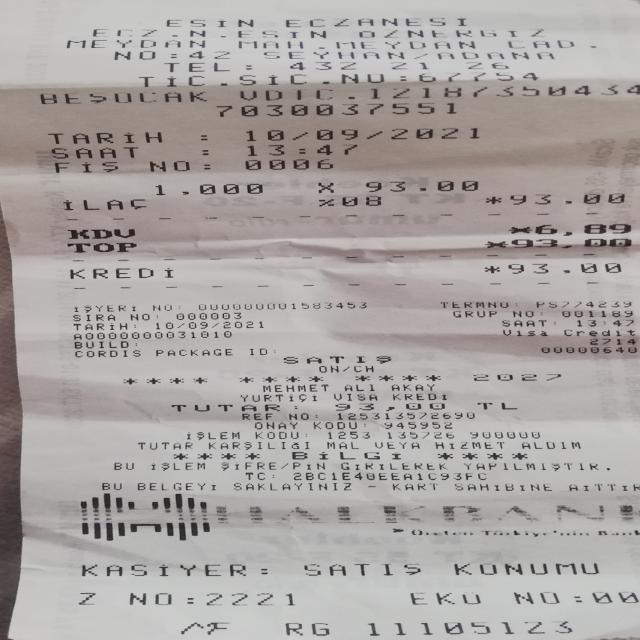text: (364, 84, 638, 98), (367, 620, 571, 635), (245, 128, 480, 141), (239, 38, 474, 50), (214, 105, 456, 116), (81, 562, 245, 578), (453, 560, 599, 576), (93, 28, 325, 38), (284, 16, 465, 28), (39, 91, 206, 103), (304, 560, 421, 576), (358, 28, 542, 38), (292, 472, 486, 481), (261, 50, 404, 62), (66, 38, 204, 50), (508, 191, 625, 205), (47, 131, 162, 145), (466, 460, 598, 472), (205, 589, 293, 607), (246, 142, 358, 156), (510, 236, 630, 249), (414, 70, 542, 82), (507, 262, 623, 275), (154, 182, 263, 195), (195, 301, 371, 309), (364, 180, 478, 192), (49, 144, 140, 159), (234, 481, 349, 492), (336, 411, 474, 420), (454, 481, 551, 493), (289, 450, 402, 460), (57, 199, 151, 211), (70, 267, 172, 278), (334, 400, 444, 410), (208, 440, 308, 451), (174, 402, 282, 412), (437, 51, 556, 60), (536, 223, 632, 234), (403, 591, 482, 604), (282, 355, 390, 364), (165, 17, 253, 28), (238, 89, 334, 99), (72, 332, 230, 338), (240, 159, 332, 169), (154, 321, 263, 329), (137, 481, 214, 492), (163, 61, 229, 73), (472, 372, 560, 381), (66, 242, 136, 253), (336, 462, 446, 469), (541, 346, 637, 354), (46, 161, 119, 171), (139, 75, 205, 86), (509, 590, 560, 604), (469, 430, 539, 440), (531, 300, 631, 307), (288, 61, 357, 71), (434, 440, 503, 450), (239, 74, 308, 84), (125, 592, 174, 606), (67, 228, 135, 238), (439, 299, 507, 309), (587, 590, 639, 603), (286, 620, 328, 636), (384, 420, 451, 430), (386, 430, 453, 440), (566, 482, 640, 491), (480, 530, 590, 536), (560, 309, 632, 318), (238, 393, 318, 401), (564, 328, 634, 337), (155, 348, 231, 356), (136, 440, 191, 451), (174, 311, 240, 320), (148, 158, 190, 172), (262, 383, 327, 392), (521, 440, 579, 450), (391, 391, 446, 401), (507, 40, 575, 48), (74, 349, 140, 357), (72, 304, 138, 312), (221, 461, 278, 470), (576, 318, 632, 327), (113, 50, 154, 62), (189, 50, 229, 62), (340, 72, 386, 82), (332, 392, 377, 402), (253, 430, 298, 440), (374, 440, 419, 450), (466, 60, 510, 70), (392, 482, 436, 492), (338, 196, 382, 206), (253, 420, 296, 430), (313, 420, 356, 430), (71, 323, 131, 330), (147, 462, 206, 469), (328, 430, 369, 440), (502, 328, 547, 337), (476, 400, 516, 410), (184, 432, 241, 439), (452, 309, 496, 318), (501, 318, 545, 327), (72, 341, 128, 348), (390, 382, 433, 391), (292, 460, 324, 472), (409, 529, 473, 535), (589, 337, 634, 345), (390, 61, 428, 70), (72, 313, 114, 321), (76, 590, 95, 607), (326, 440, 358, 450), (599, 528, 639, 536), (344, 382, 373, 392), (508, 224, 533, 235), (240, 412, 272, 420), (316, 180, 333, 194), (114, 460, 132, 472), (101, 481, 120, 492), (482, 240, 507, 248), (152, 302, 172, 312), (481, 196, 504, 204), (512, 309, 532, 318), (244, 471, 264, 480), (129, 312, 148, 321), (318, 364, 337, 373), (353, 364, 372, 373), (316, 198, 335, 207), (248, 347, 266, 356), (288, 412, 308, 420), (400, 71, 413, 83), (185, 590, 193, 607), (199, 129, 207, 144), (488, 264, 500, 274), (245, 60, 252, 73), (573, 594, 580, 606), (261, 561, 266, 577), (368, 481, 375, 492), (589, 38, 595, 50), (170, 50, 176, 62), (281, 460, 287, 472), (201, 148, 209, 156), (342, 364, 348, 373), (303, 432, 310, 439), (203, 163, 210, 170), (177, 304, 180, 312), (133, 321, 135, 331), (363, 420, 365, 430), (156, 312, 158, 321), (553, 318, 555, 327), (314, 412, 316, 420), (540, 309, 541, 318), (272, 471, 273, 480)
